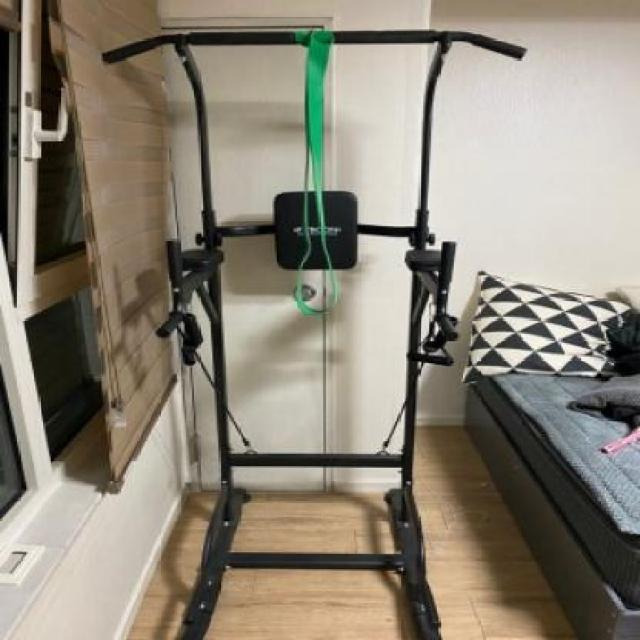chinning dipping: (103, 31, 515, 632)
